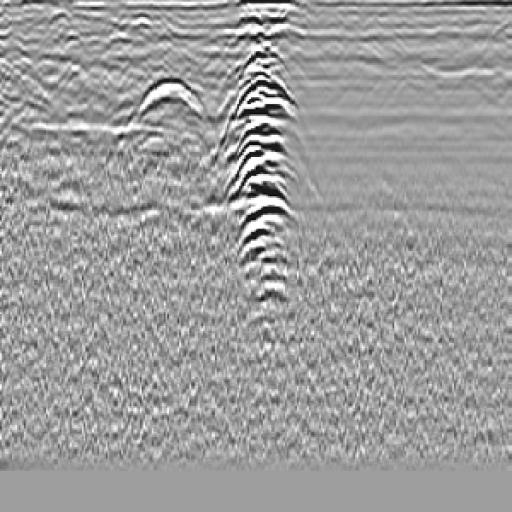metalic: (224, 33, 303, 339)
nonmetalic: (121, 74, 214, 146)
